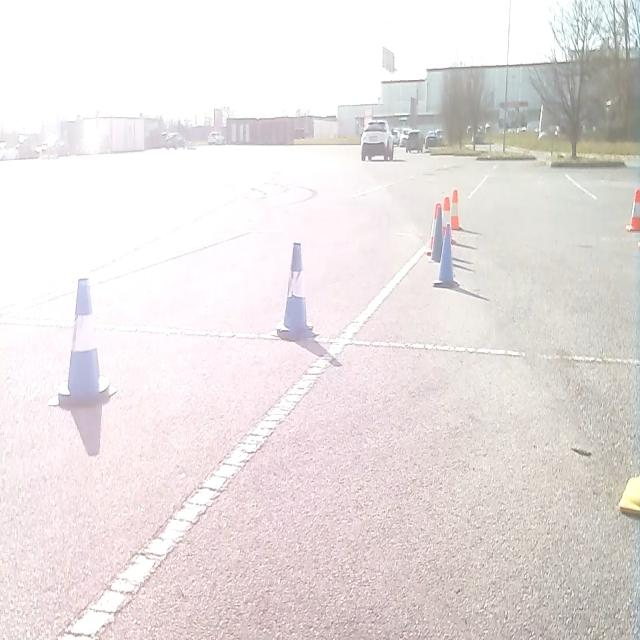blue_cone: (56, 275, 115, 407), (276, 239, 315, 341), (438, 220, 454, 284), (430, 202, 443, 262)
orange_cone: (425, 201, 438, 256), (625, 187, 639, 232), (449, 187, 462, 230), (441, 195, 451, 239)
